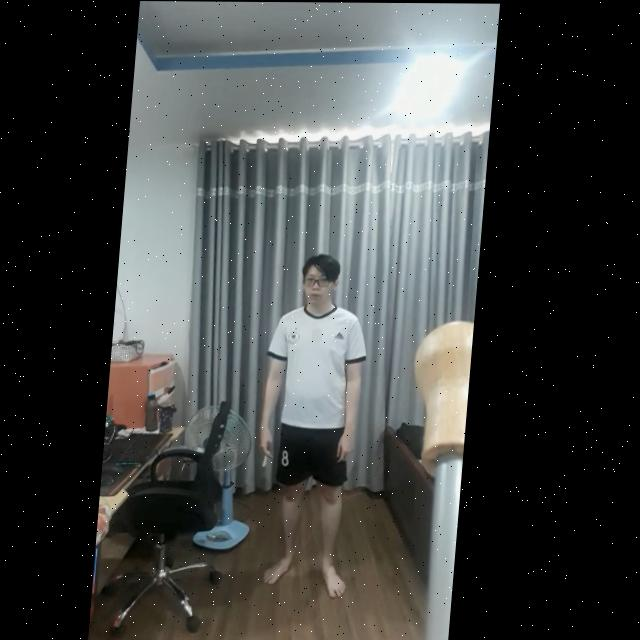cigarette: (271, 452, 278, 468)
